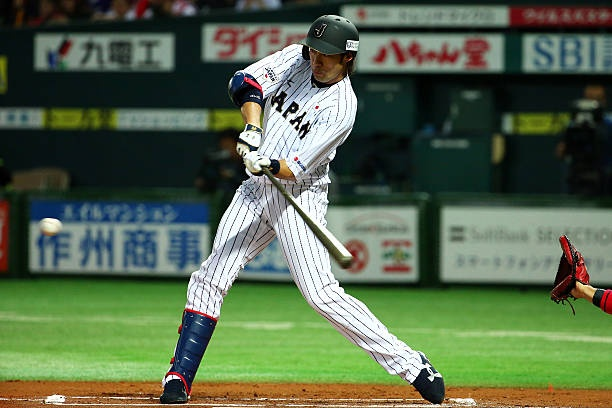bita: (262, 161, 348, 268)
